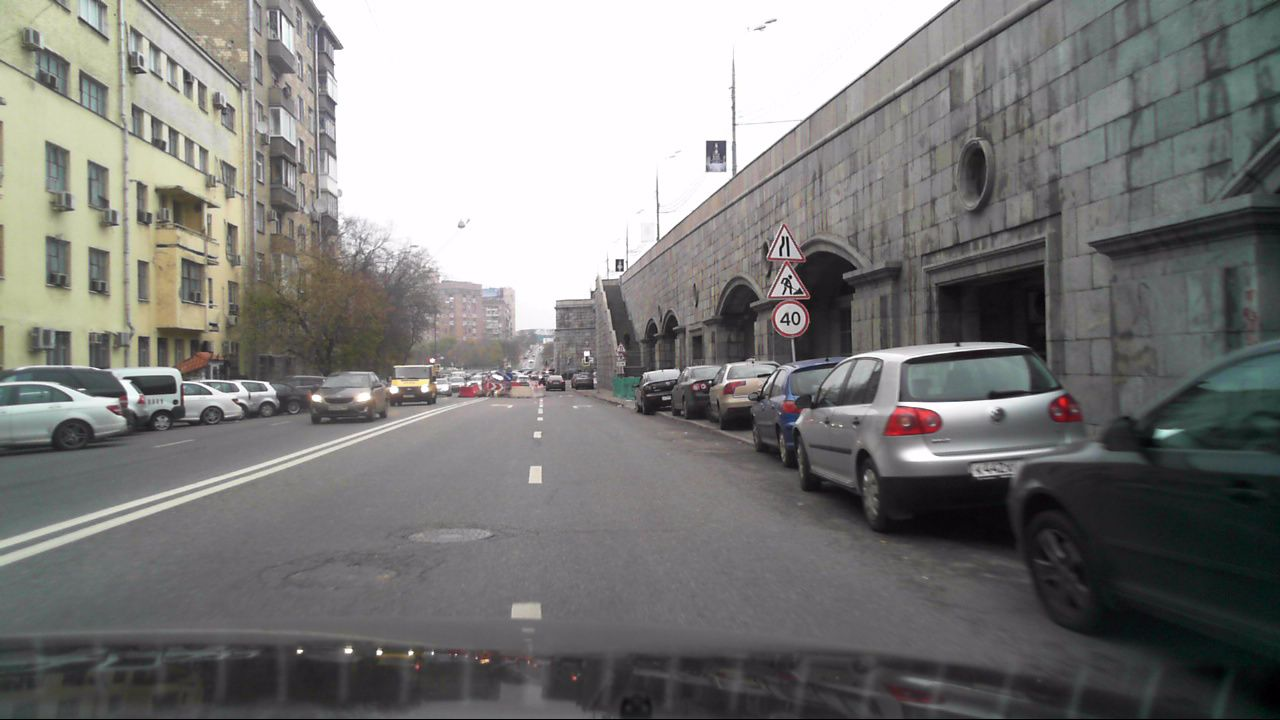speed_warning_40: (770, 296, 809, 339)
